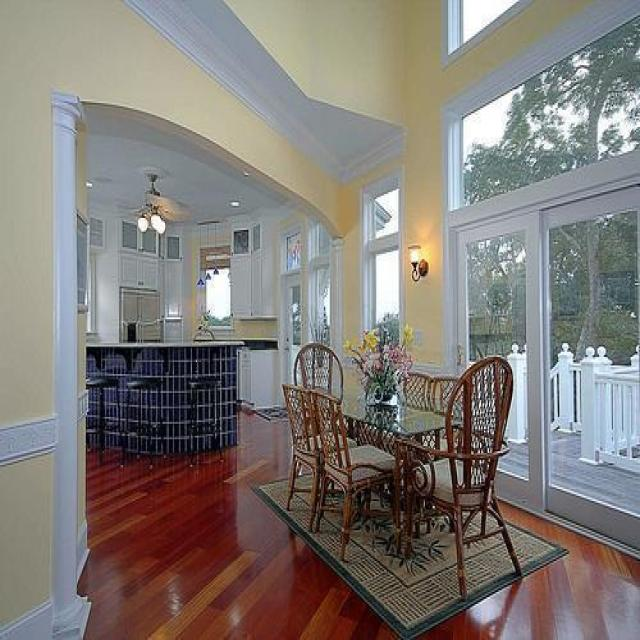crib: (86, 339, 242, 466)
lamps: (407, 244, 429, 281)
plants: (342, 310, 414, 405)
rugs: (250, 468, 570, 636)
table: (302, 382, 461, 558)
window: (440, 1, 639, 558)
windows: (360, 168, 403, 352)
